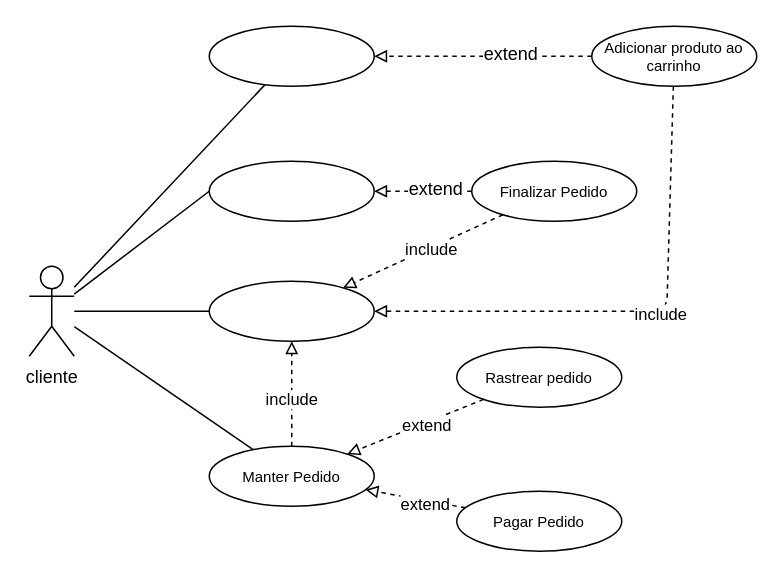
Image size: 783x578. Some labels were removed from this diagram. Each missing label, with the centre of its shape:
"Consultar Produtos" belongs at point (291, 55).
"Efetuar Login" belongs at point (291, 310).
"Manter carrinho" belongs at point (291, 190).
